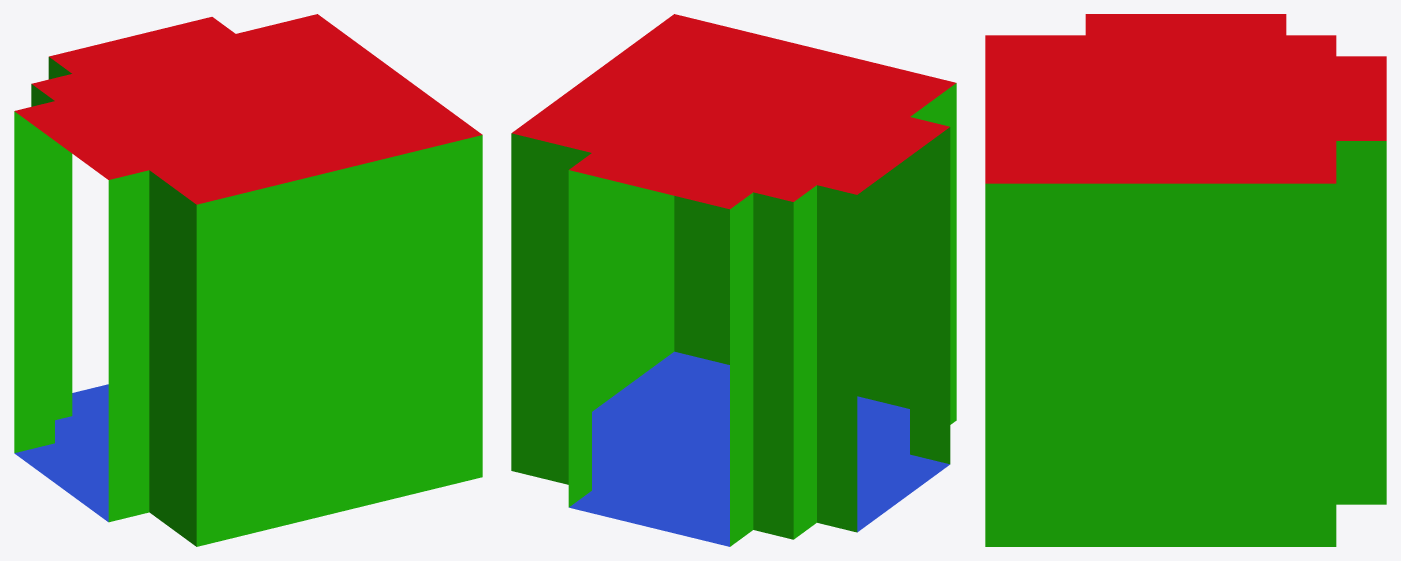
The model's file is Corridor_1U_Right.fbx.
3 renders of one model, left to right at view 1: azimuth 30°, elevation 25°; view 2: azimuth 150°, elevation 25°; view 3: azimuth 270°, elevation 25°, orthographic. The views are drawn at different scales.
Parts seen in each view (by area): view 1: Corridor 1U Right; view 2: Corridor 1U Right; view 3: Corridor 1U Right.
Part boxes in pixels (<box>): Corridor 1U Right: <box>14,14,482,546</box>; Corridor 1U Right: <box>511,14,956,546</box>; Corridor 1U Right: <box>985,14,1386,546</box>.
Bounding box in the file's own units: 800 × 800 × 800.
